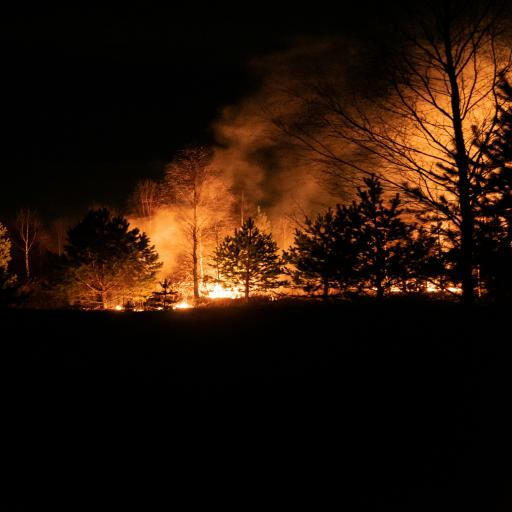wildfire: (25, 38, 512, 356)
